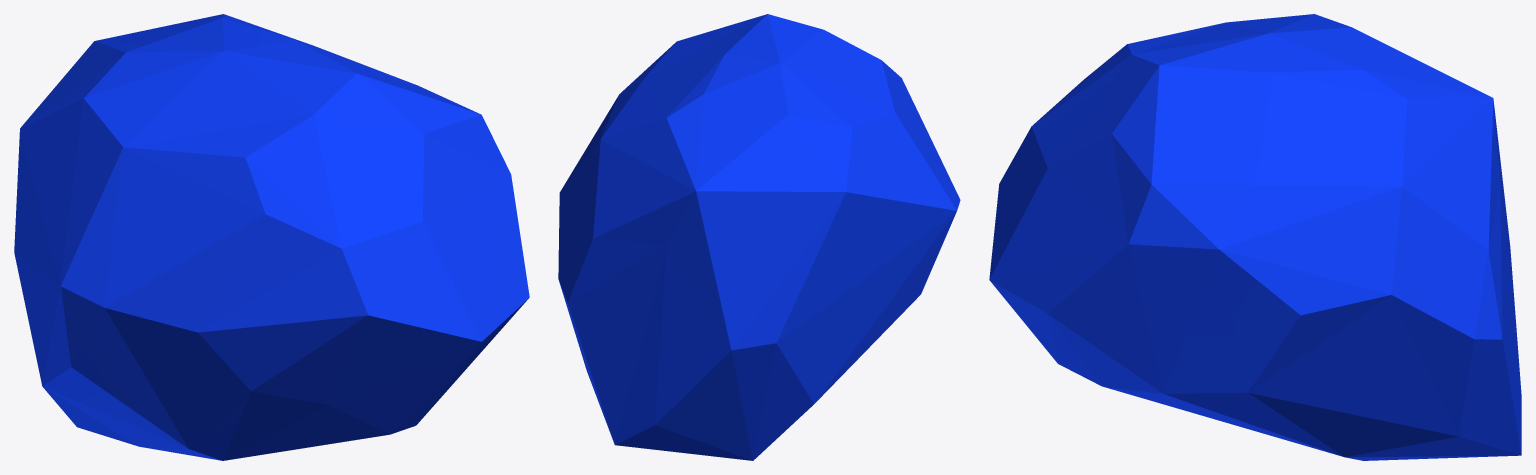
File: SM_emissive_rock_15.fbx
The picture shows the model from 3 angles, left to right: view 1: azimuth 30°, elevation 25°; view 2: azimuth 150°, elevation 25°; view 3: azimuth 270°, elevation 25°; orthographic projection. The views are drawn at different scales.
Parts seen in each view (by area): view 1: emissive_rock_15; view 2: emissive_rock_15; view 3: emissive_rock_15.
Boxes of the visible parts, <box> form: emissive_rock_15: <box>14,14,529,460</box>; emissive_rock_15: <box>558,14,960,460</box>; emissive_rock_15: <box>989,14,1521,460</box>.
Size of the model in its own units: 139 by 130 by 154.
